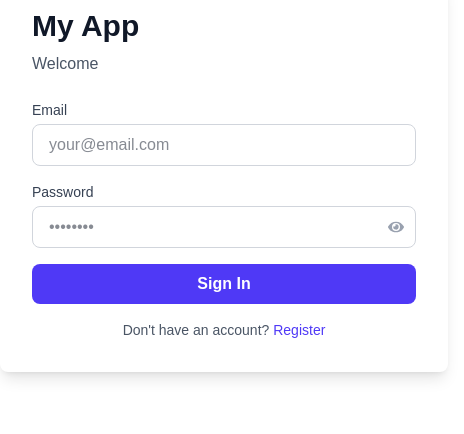
Test: LoginForm › displays error message on failed login
Type "user@example.com" into the field with placeholder "your@email.com" at (224, 145), box [32, 124, 416, 166]
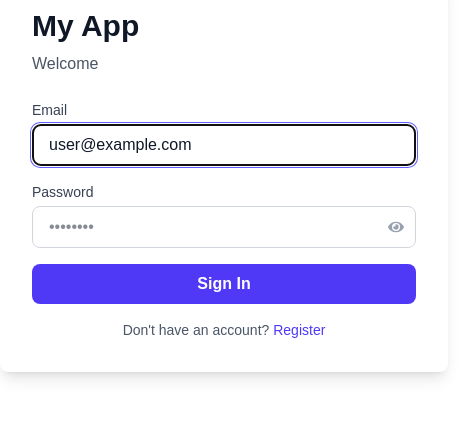
Type "wrongpassword" into the password field with placeholder "••••••••" at (224, 227), box [32, 206, 416, 248]
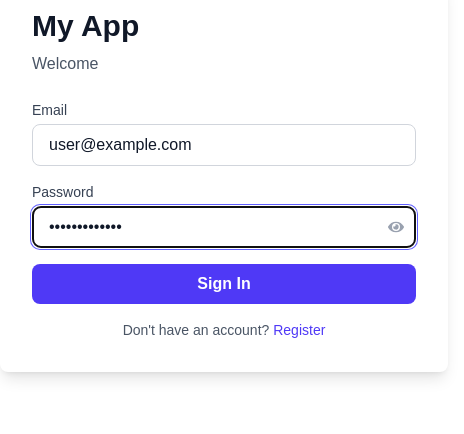
Click the button "Sign In" at (224, 284), box [32, 264, 416, 304]
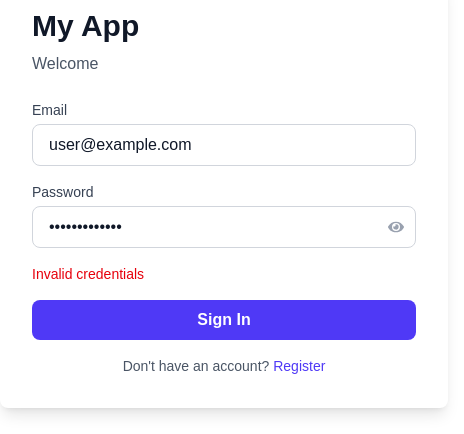
Now the text "Invalid credentials" is shown, box [32, 266, 144, 282]
